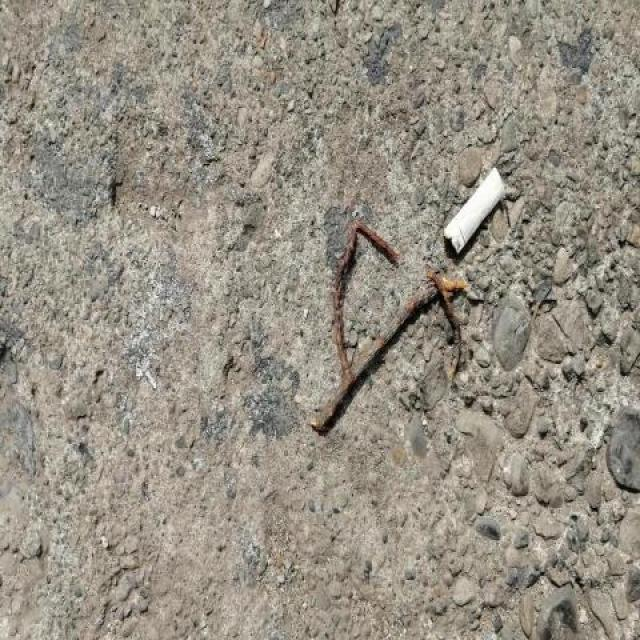non-organic waste: (439, 159, 509, 264)
